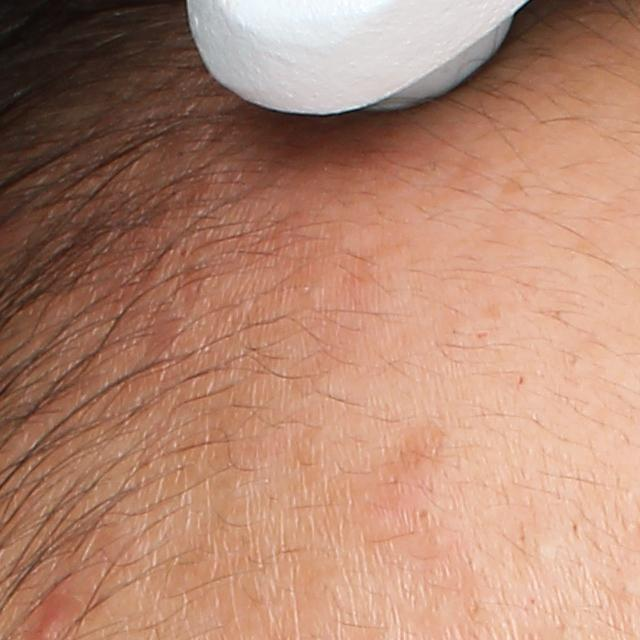comedo: (522, 534, 559, 577), (412, 503, 432, 523)
